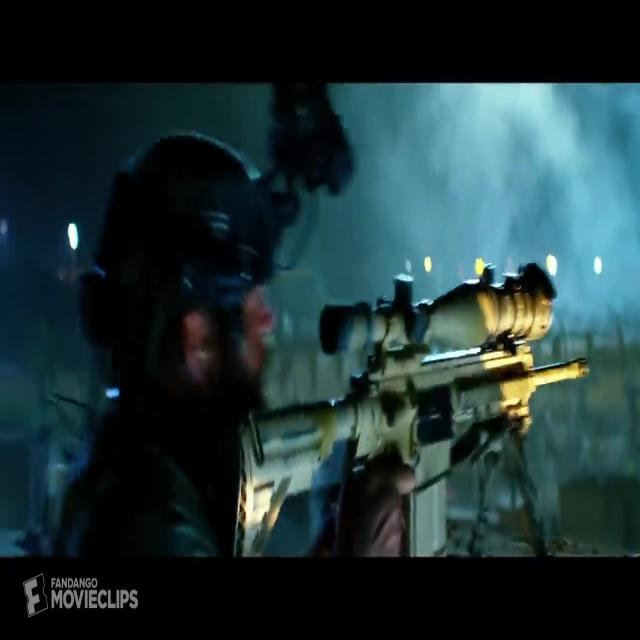Weapon: (169, 229, 637, 559)
